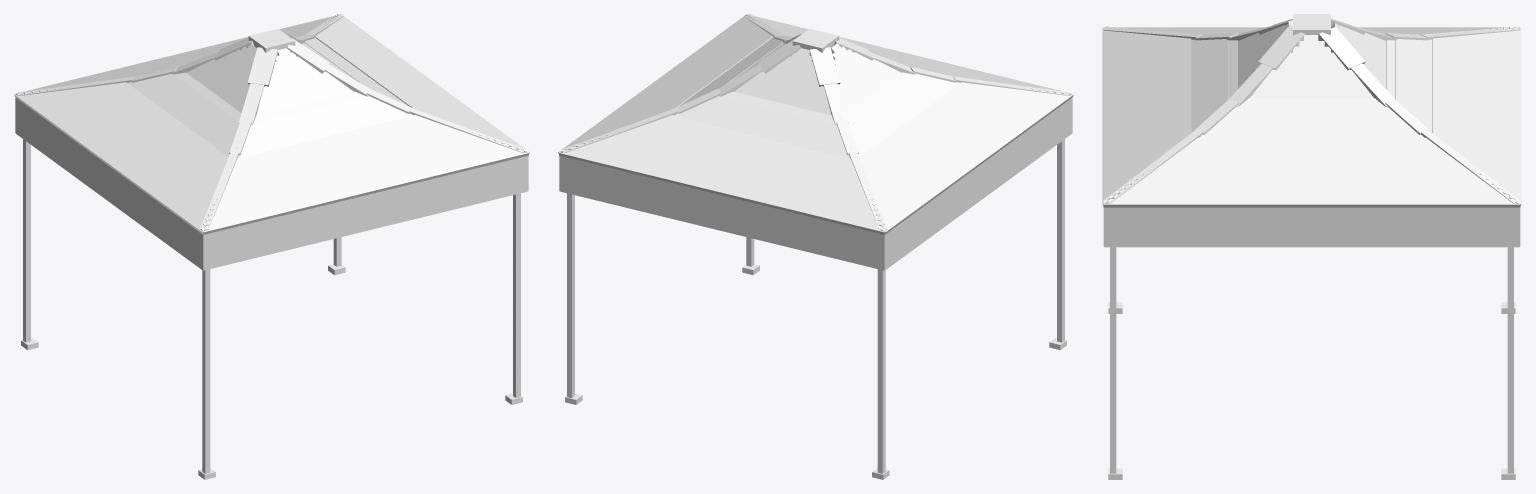
Rendered from tent_blue_baituan.obj.
The picture shows the model from 3 angles, left to right: view 1: azimuth 30°, elevation 25°; view 2: azimuth 150°, elevation 25°; view 3: azimuth 270°, elevation 25°; orthographic projection. The views are drawn at different scales.
Visible parts, largest first — view 1: text3, text2, cube1.004, stem3, cube1.005, stem4, stem1, cube2.004, cube3.004, cube4.004, cube5.000, cube6.000 (+48 smaller); view 2: text1, text2, cube1.003, stem1, cube1.005, stem2, stem3, cube2.003, cube3.003, cube4.003, cube5, cube6 (+48 smaller); view 3: text0, cube1.006, cube2.006, cube3.006, cube4.006, cube5.002, cube6.002, cube7.002, cube8.002, stem2, stem4, cube13.002 (+71 smaller).
Boxes of the visible parts, x1,y1,x2,y2 form: text3: (208,157,523,269); text2: (15,98,207,270); cube1.004: (200,149,529,235); stem3: (202,269,210,473); cube1.005: (14,92,206,235); stem4: (513,193,520,397); stem1: (23,139,30,342); cube2.004: (203,146,521,227); cube3.004: (205,144,513,222); cube4.004: (208,141,505,216); cube5.000: (210,139,497,211); cube6.000: (212,136,489,206); text1: (564,157,879,269); text2: (880,98,1072,270); cube1.003: (558,149,886,235); stem1: (877,269,885,473); cube1.005: (881,92,1073,235); stem2: (567,193,574,397); stem3: (1057,139,1064,342); cube2.003: (566,146,884,227); cube3.003: (574,144,882,222); cube4.003: (582,141,879,216); cube5: (590,139,877,211); cube6: (598,136,875,206); text0: (1103,207,1520,247); cube1.006: (1103,200,1520,207); cube2.006: (1110,196,1513,200); cube3.006: (1116,191,1507,195); cube4.006: (1122,187,1501,191); cube5.002: (1129,182,1494,186); cube6.002: (1135,178,1488,182); cube7.002: (1141,173,1482,177); cube8.002: (1148,169,1475,173); stem2: (1507,247,1513,473); stem4: (1110,247,1116,473); cube13.002: (1180,146,1443,151).
Size of the model in its own units: 3.74 by 3.66 by 3.74.
